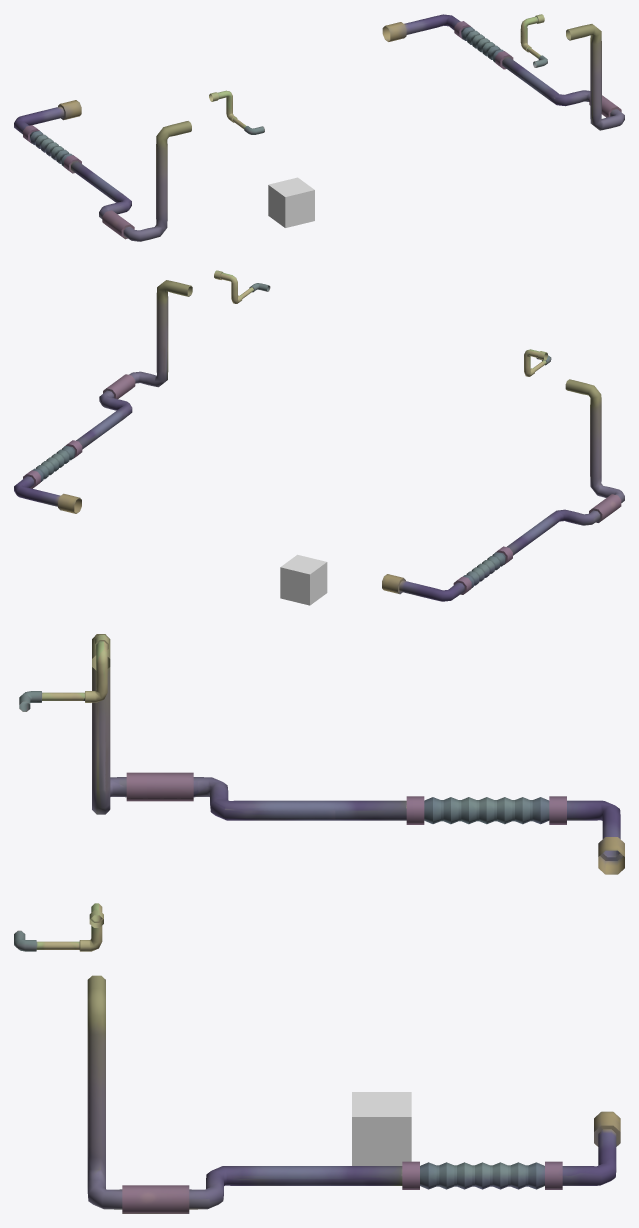
File: battlescence-2-pipe3.fbx
3 renders of one model, top to bottom at view 1: azimuth 30°, elevation 25°; view 2: azimuth 150°, elevation 25°; view 3: azimuth 270°, elevation 25°, orthographic. The views are drawn at different scales.
Visible parts, largest first — view 1: Plane.039, Plane.040, battlescence-2-pipe3; view 2: Plane.040, Plane.039, battlescence-2-pipe3; view 3: Plane.040, Plane.039, battlescence-2-pipe3.
Boxes of the visible parts, x1,y1,x2,y2 form: Plane.039: (14, 90, 264, 241); Plane.040: (382, 14, 624, 130); battlescence-2-pipe3: (268, 177, 314, 227); Plane.040: (14, 270, 270, 513); Plane.039: (382, 349, 624, 601); battlescence-2-pipe3: (280, 554, 327, 605); Plane.040: (14, 903, 620, 1213); Plane.039: (19, 634, 624, 874); battlescence-2-pipe3: (352, 1092, 411, 1165).
Size of the model in its own units: 3364 by 1434 by 2051.
